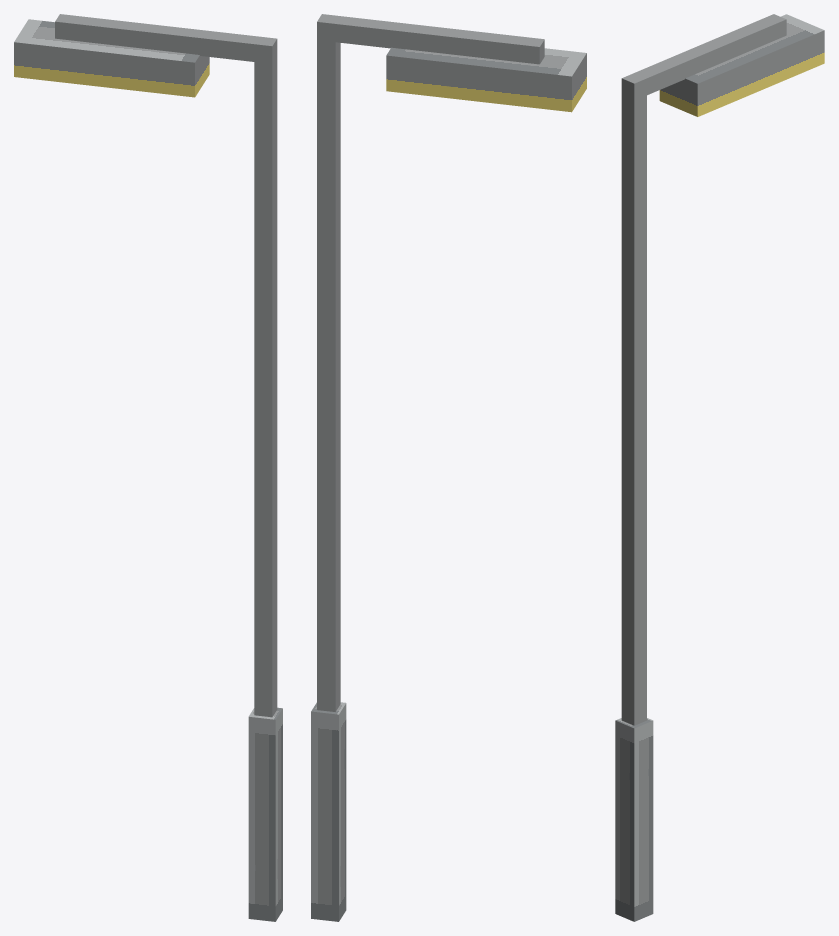
The model's file is StreetLamp.obj.
3 views of the same model, side by side, from view 1: azimuth 30°, elevation 25°; view 2: azimuth 210°, elevation 25°; view 3: azimuth 270°, elevation 25° (orthographic). The views are drawn at different scales.
Visible parts, largest first — view 1: cube; view 2: cube; view 3: cube.
Boxes of the visible parts, box(x1,y1,x2,y2) form: cube: box(14, 14, 282, 921); cube: box(311, 14, 586, 921); cube: box(615, 14, 824, 921).
Size of the model in its own units: 0.7292 by 3.21 by 0.7292.
Materials: 1 (1 with a texture image).
